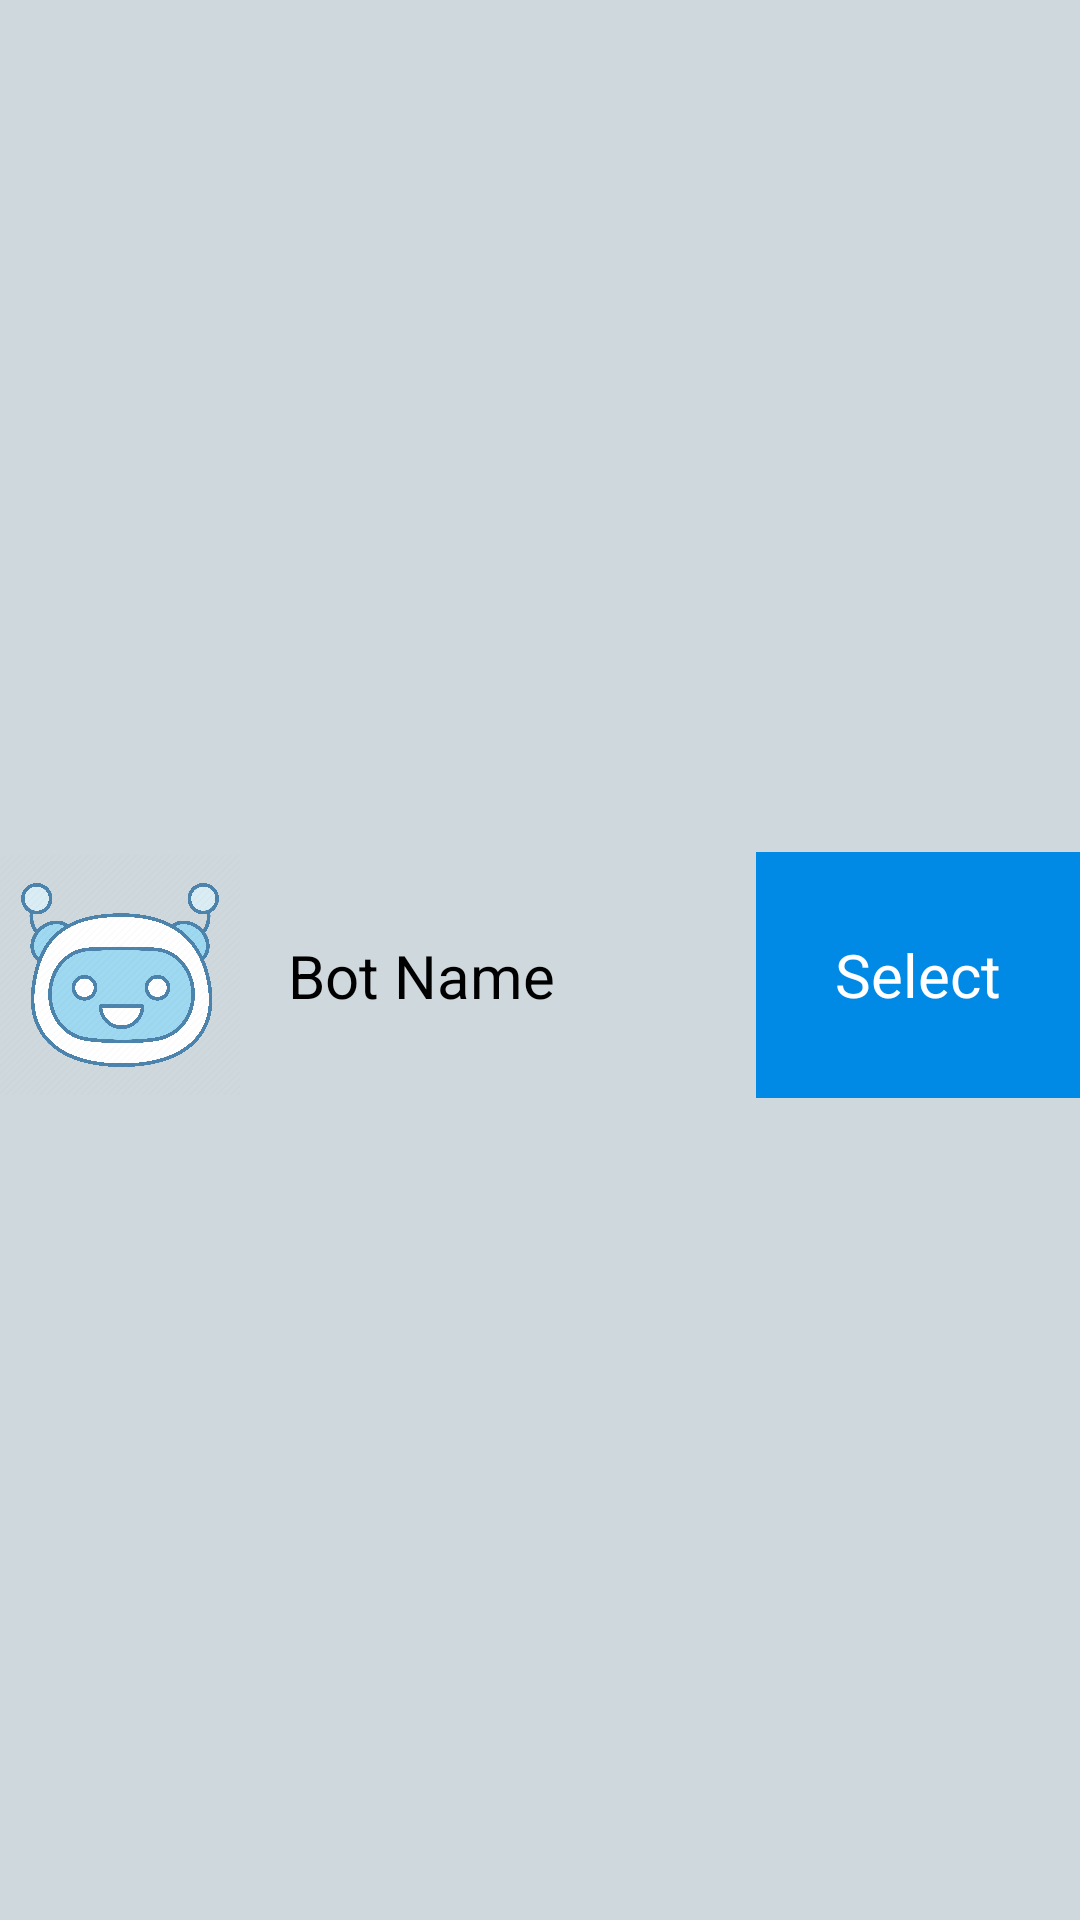

Named icons in this screenshot (1080px×1920px) and their centers, (x=x, y=y):
chatbot: (x=120, y=975)
